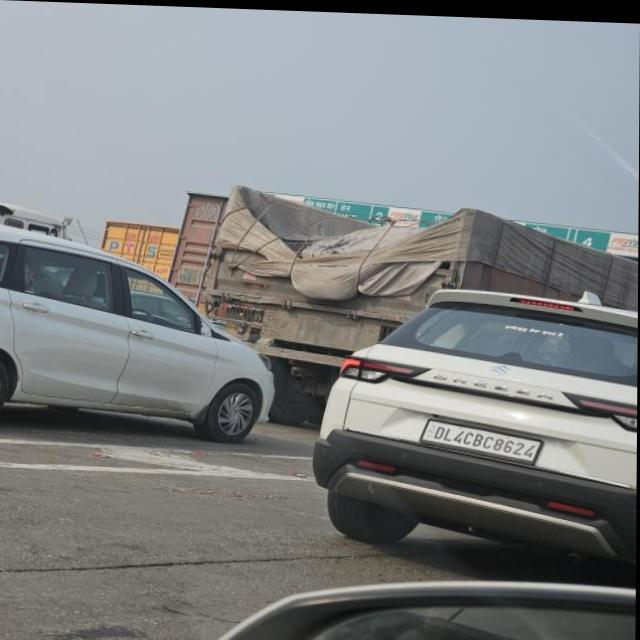covered: (220, 176, 599, 372)
